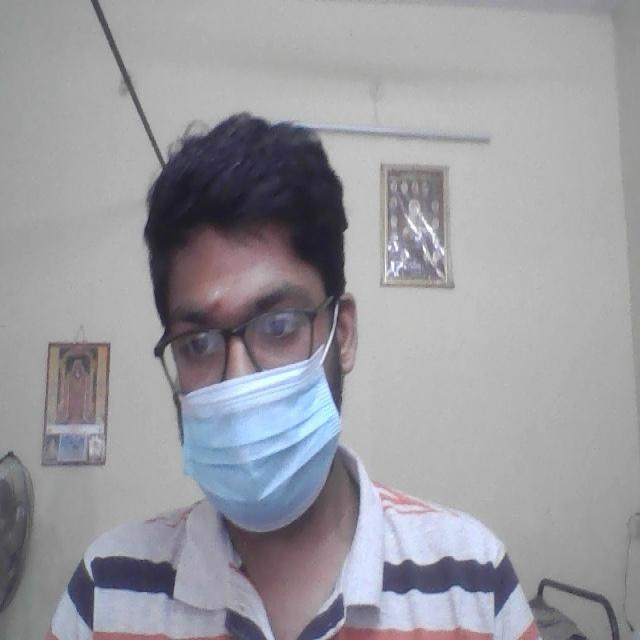Focused: (154, 249, 341, 501)
